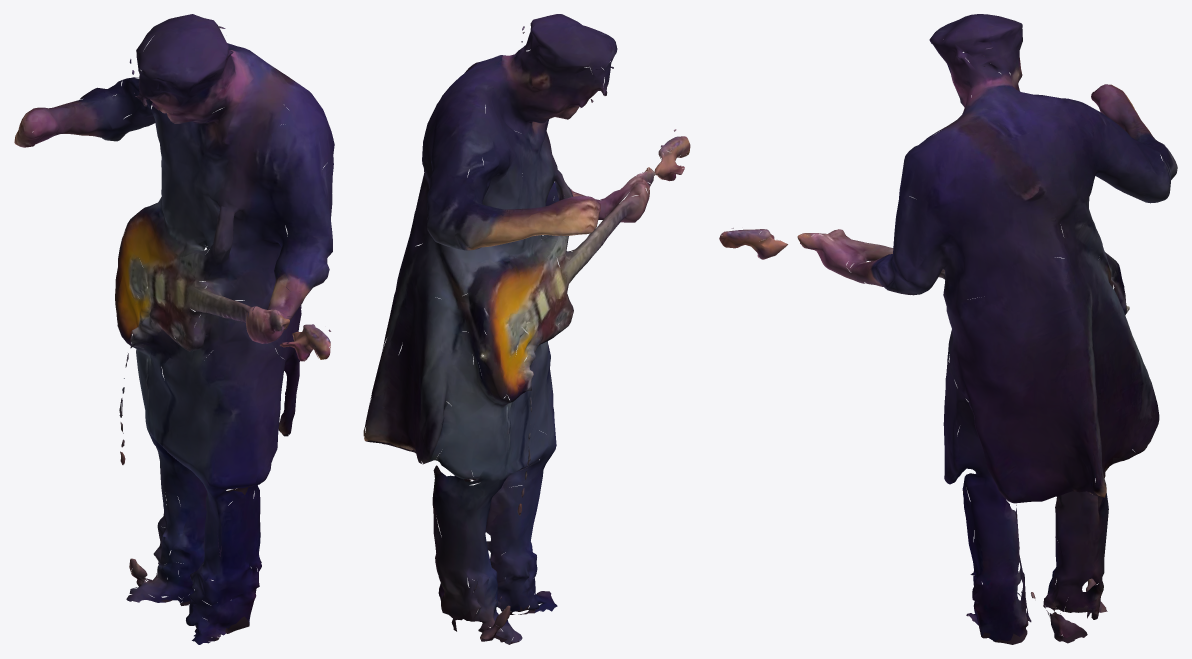
Rendered from fardi_opt.glb.
3 views of the same model, side by side, from view 1: azimuth 30°, elevation 25°; view 2: azimuth 150°, elevation 25°; view 3: azimuth 270°, elevation 25° (orthographic). The views are drawn at different scales.
Size of the model in its own units: 1.58 by 3.76 by 2.62.
7 materials, 7 textured.
